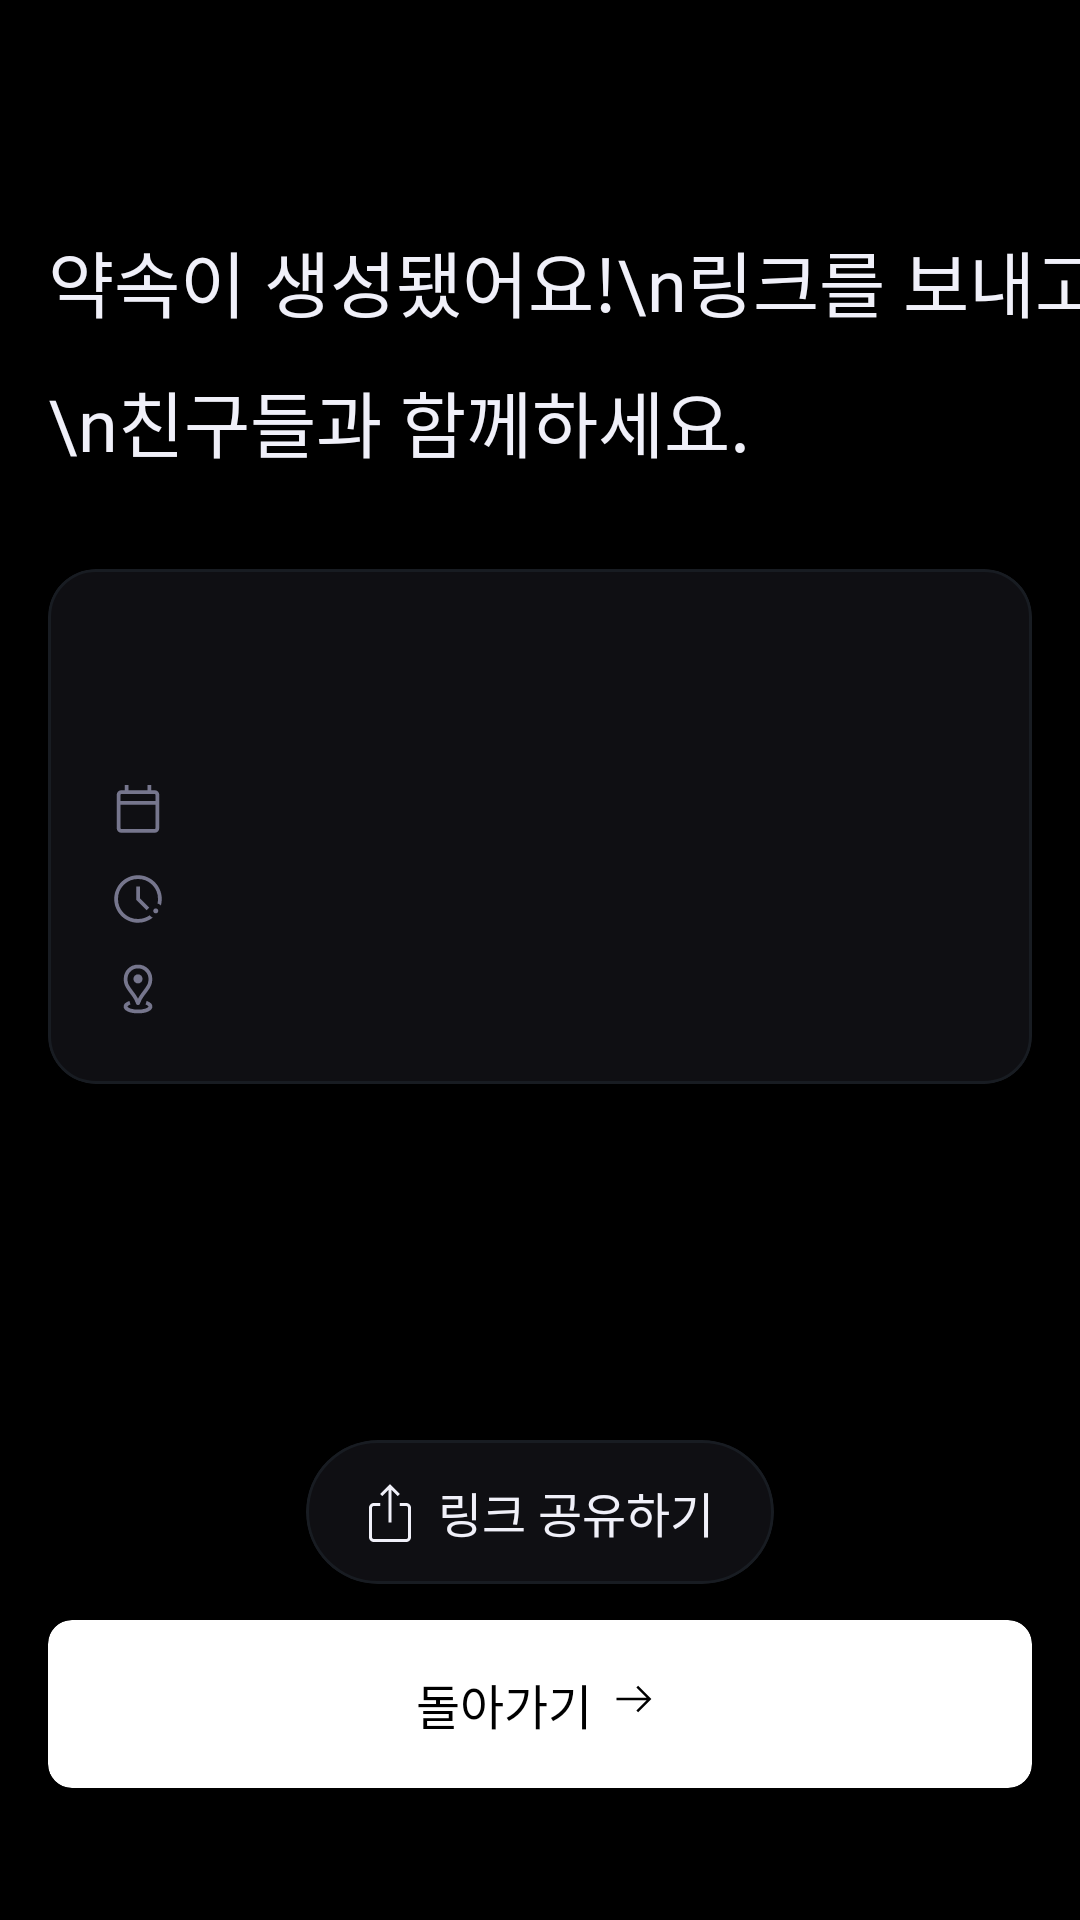

Icon bounding boxes for this 1080*1920 phone screenshot, format bbox=[x1, y1, x2, y2]:
calendar: bbox=[116, 785, 160, 833]
location: bbox=[123, 964, 153, 1014]
next: bbox=[616, 1686, 651, 1712]
share: bbox=[369, 1484, 411, 1542]
time: bbox=[114, 875, 162, 923]
